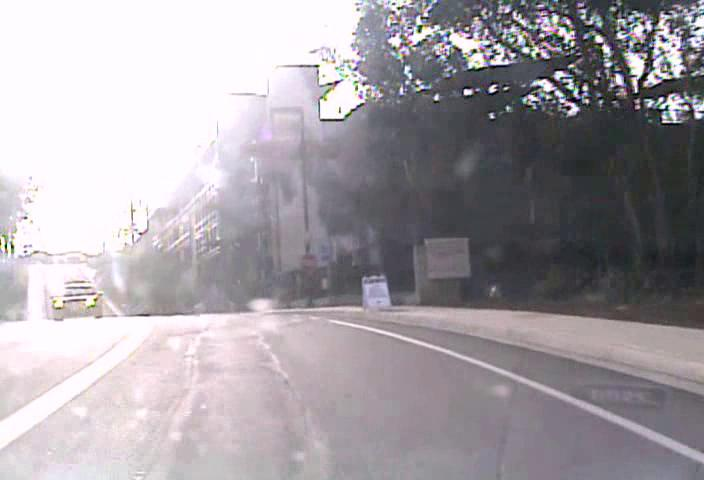stop: (300, 253, 317, 270)
